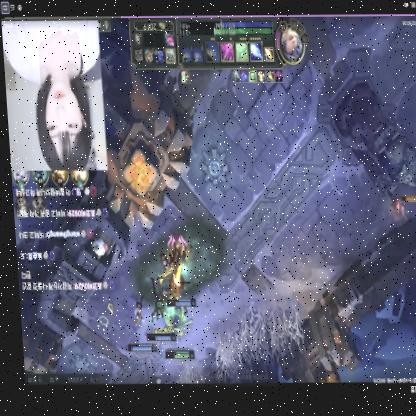streamer: (1, 21, 106, 171)
